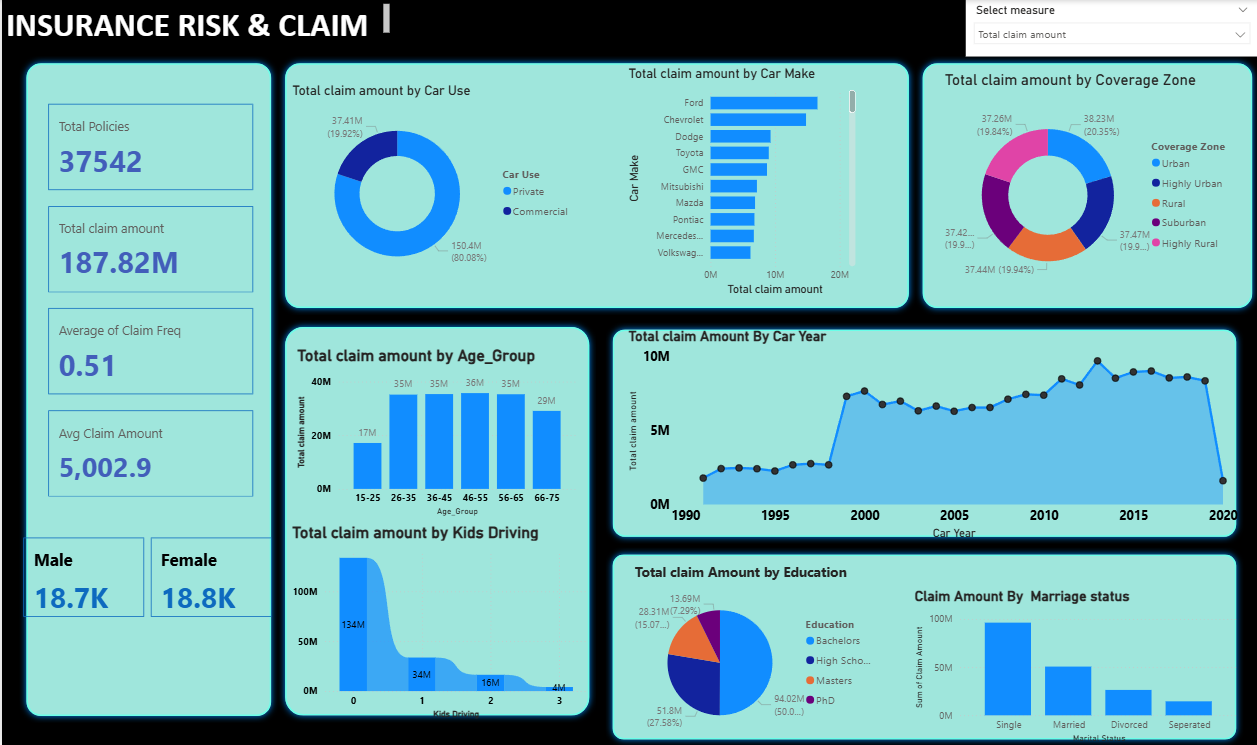

What the dashboard file says about the page in this screenshot:
{"tool":"powerbi","page":{"name":"Page 1","canvas":[1600,950],"ordinal":0},"visuals":[{"type":"textbox","box":[0,0,498.3,71.7],"z":0},{"type":"shape","box":[22.3,72,329.3,849.1],"z":1000},{"type":"cardVisual","fields":{"Data":["insurance_data_car.Total Policies","insurance_data_car.Total claim amount","Avg(insurance_data_car.Claim Freq)","insurance_data_car.Avg Claim Amount"]},"box":[53.3,126.7,271.7,511.7],"z":2000},{"type":"cardVisual","fields":{"Data":["insurance_data_car.Male","insurance_data_car.Female"]},"box":[21.7,680,326.7,111.7],"z":3000},{"type":"shape","box":[351.8,71.6,811.8,329.5],"z":4000},{"type":"donutChart","fields":{"Y":["insurance_data_car.Total claim amount"],"Category":["insurance_data_car.Car Use"]},"box":[364.5,105.1,370.9,264.2],"z":5000},{"type":"shape","box":[1163,72,437.4,329.3],"z":6000},{"type":"donutChart","fields":{"Y":["insurance_data_car.Total claim amount"],"Category":["insurance_data_car.Coverage Zone"]},"box":[1195.5,90.7,385.2,294.5],"z":7000},{"type":"shape","box":[352.5,407.5,405,512.5],"z":8000},{"type":"clusteredColumnChart","fields":{"Y":["insurance_data_car.Total claim amount"],"Category":["insurance_data_car.Age_Group"]},"box":[371.7,441.7,365,221.7],"z":9000},{"type":"ribbonChart","fields":{"Y":["insurance_data_car.Total claim amount"],"Category":["insurance_data_car.Kids Driving"]},"box":[364.5,665.4,385.2,254.7],"z":10000},{"type":"shape","box":[768.3,410,811.7,281.7],"z":11000},{"type":"areaChart","title":"Total claim Amount By Car Year","fields":{"Y":["insurance_data_car.Total claim amount"],"Category":["insurance_data_car.Car Year"]},"box":[792.7,417.1,786.4,275.4],"z":12000},{"type":"shape","box":[768.3,696.7,811.7,253.3],"z":13000},{"type":"pieChart","title":"Total claim Amount by Education","fields":{"Y":["insurance_data_car.Total claim amount"],"Category":["insurance_data_car.Education"]},"box":[800,716.7,321.7,233.3],"z":14000},{"type":"lineStackedColumnComboChart","title":"Claim Amount By  Marriage status","fields":{"Category":["insurance_data_car.Marital Status"],"Y":["Sum(insurance_data_car.Claim Amount)"]},"box":[1157.3,748.2,421.8,202.2],"z":15000},{"type":"slicer","fields":{"Values":["Select measure.Select measure"]},"box":[1227.3,0,372.5,71.6],"z":16000},{"type":"clusteredBarChart","fields":{"Y":["insurance_data_car.Total claim amount"],"Category":["insurance_data_car.Car Make"]},"box":[792.7,82.8,299.3,299.3],"z":17000}]}

Visuals, with their boxes in screenshot pixels (x1, y1, x2, y2):
textbox: region(10, 0, 396, 56)
shape: region(27, 56, 282, 714)
cardVisual - insurance_data_car.Total Policies x insurance_data_car.Total claim amount: region(51, 98, 262, 495)
cardVisual - insurance_data_car.Male x insurance_data_car.Female: region(27, 527, 280, 613)
shape: region(282, 55, 911, 311)
donutChart - insurance_data_car.Total claim amount x insurance_data_car.Car Use: region(292, 81, 580, 286)
shape: region(911, 56, 1250, 311)
donutChart - insurance_data_car.Total claim amount x insurance_data_car.Coverage Zone: region(936, 70, 1234, 298)
shape: region(283, 316, 597, 713)
clusteredColumnChart - insurance_data_car.Total claim amount x insurance_data_car.Age_Group: region(298, 342, 581, 514)
ribbonChart - insurance_data_car.Total claim amount x insurance_data_car.Kids Driving: region(292, 516, 591, 713)
shape: region(605, 318, 1234, 536)
"Total claim Amount By Car Year" areaChart: region(624, 323, 1233, 537)
shape: region(605, 540, 1234, 736)
"Total claim Amount by Education" pieChart: region(630, 555, 879, 736)
"Claim Amount By  Marriage status" lineStackedColumnComboChart: region(906, 580, 1233, 736)
slicer - Select measure.Select measure: region(961, 0, 1249, 55)
clusteredBarChart - insurance_data_car.Total claim amount x insurance_data_car.Car Make: region(624, 64, 856, 296)
